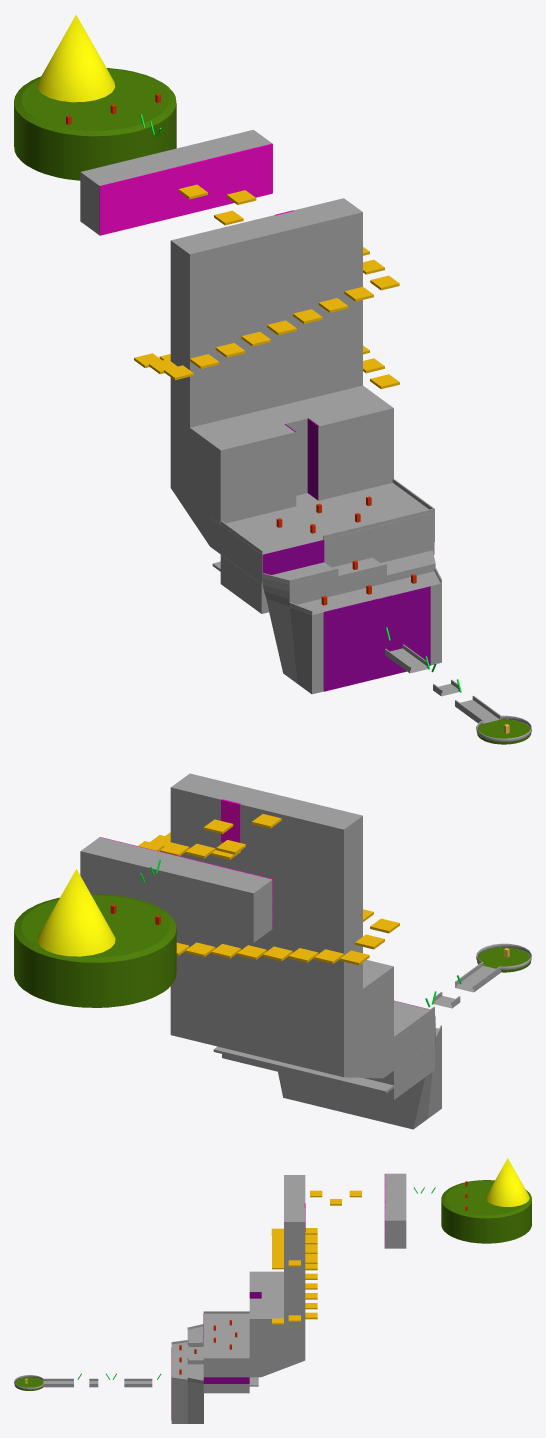
File: Level2fbx.fbx
3 renders of one model, top to bottom at view 1: azimuth 30°, elevation 25°; view 2: azimuth 150°, elevation 25°; view 3: azimuth 270°, elevation 25°, orthographic. The views are drawn at different scales.
Visible parts, largest first — view 1: pCube32, pCube27, Suelo3, pCube21, Musgo12, Musgo5, pCube30, pCube11, pCube33, Final1, pCube13, pCube28 (+7 smaller); view 2: pCube32, pCube30, Suelo3, pCube33, pCube12, Final1, pCube28, pCube21, pCube29, pCube27, Suelo2, pCube11 (+2 smaller); view 3: Suelo3, pCube30, pCube21, pCube32, pCube33, pCube11, Final1, pCube27, pCube12, pCube28, pCube2, Musgo9 (+2 smaller).
Boxes of the visible parts, left/top/right/bottom form: pCube32: left=170, top=198, right=362, bottom=427; pCube27: left=210, top=400, right=393, bottom=524; Suelo3: left=14, top=68, right=176, bottom=180; pCube21: left=210, top=483, right=434, bottom=584; Musgo12: left=99, top=143, right=272, bottom=235; Musgo5: left=323, top=586, right=430, bottom=691; pCube30: left=170, top=385, right=382, bottom=545; pCube11: left=289, top=571, right=441, bottom=694; pCube33: left=80, top=130, right=271, bottom=235; Final1: left=37, top=14, right=115, bottom=102; pCube13: left=264, top=550, right=435, bottom=606; pCube28: left=220, top=542, right=433, bottom=613; pCube32: left=170, top=773, right=362, bottom=1002; pCube30: left=170, top=962, right=382, bottom=1078; Suelo3: left=14, top=894, right=176, bottom=1007; pCube33: left=80, top=837, right=272, bottom=942; pCube12: left=278, top=1042, right=435, bottom=1129; Final1: left=37, top=869, right=115, bottom=956; pCube28: left=222, top=1040, right=434, bottom=1099; pCube21: left=383, top=1001, right=434, bottom=1078; pCube29: left=213, top=1046, right=393, bottom=1093; pCube27: left=363, top=960, right=393, bottom=1048; Suelo2: left=477, top=947, right=530, bottom=972; pCube11: left=427, top=1028, right=441, bottom=1118; Suelo3: left=441, top=1180, right=531, bottom=1243; pCube30: left=261, top=1271, right=305, bottom=1376; pCube21: left=203, top=1313, right=261, bottom=1377; pCube32: left=284, top=1175, right=305, bottom=1318; pCube33: left=385, top=1173, right=406, bottom=1248; pCube11: left=171, top=1342, right=187, bottom=1423; Final1: left=486, top=1158, right=529, bottom=1206; pCube27: left=249, top=1271, right=261, bottom=1360; pCube12: left=187, top=1382, right=203, bottom=1423; pCube28: left=203, top=1384, right=249, bottom=1393; pCube2: left=43, top=1381, right=152, bottom=1387; Musgo9: left=203, top=1377, right=249, bottom=1383.
Size of the model in its own units: 95.11 by 179 by 339.
